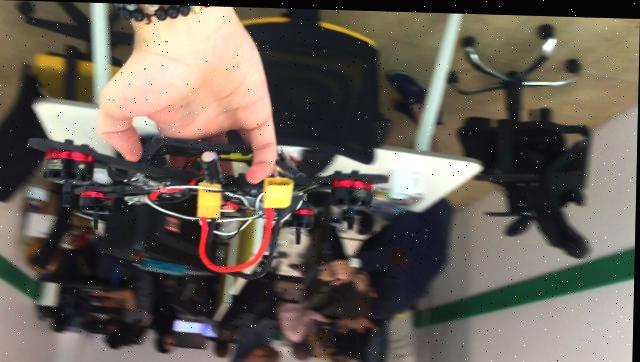drone: (0, 0, 640, 332)
